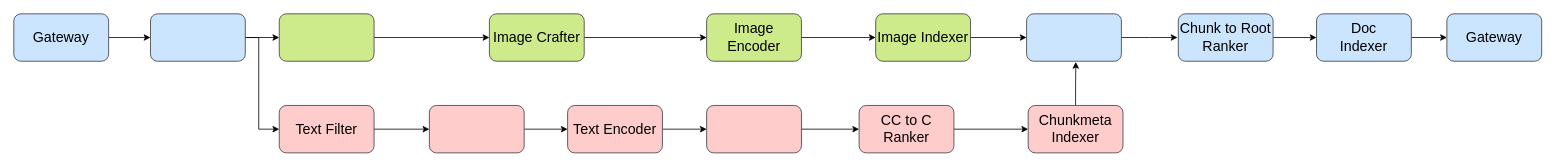
This 1556x167 diagram has some shape labels left out. The shapes that lost their labels are listed below. From the top down, each one's centre as x and y in pixels, then its label:
[197,37]: Multimodal Segmenter
[326,37]: Image Filter
[1073,37]: Joiner
[476,129]: Text Segmenter
[753,129]: Text Indexer
